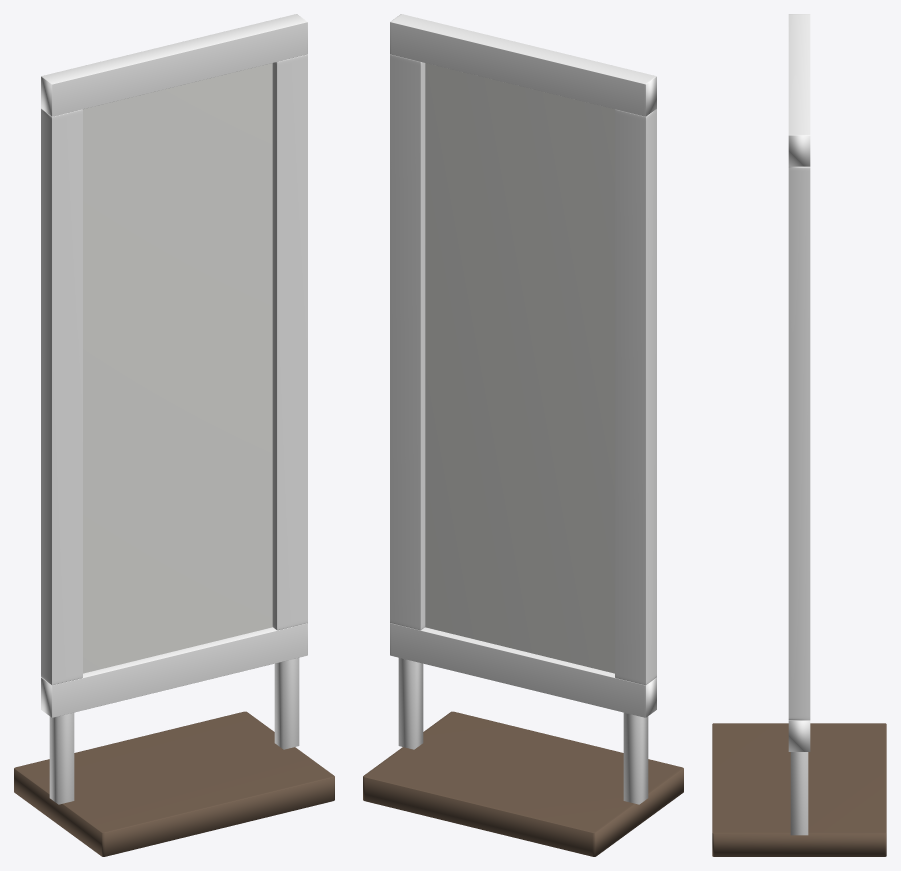
The picture shows the model from 3 angles, left to right: view 1: azimuth 30°, elevation 25°; view 2: azimuth 150°, elevation 25°; view 3: azimuth 270°, elevation 25°; orthographic projection. The views are drawn at different scales.
Visible parts, largest first — view 1: Mirror_Surface, Frame_Complete, OrnateBbase, Stand_Complete; view 2: Mirror_Surface, Frame_Complete, OrnateBbase, Stand_Complete; view 3: OrnateBbase, Frame_Complete, Stand_Complete.
Boxes of the visible parts, x1,y1,x2,y2 form: Mirror_Surface: (83,63,272,673); Frame_Complete: (41,14,307,717); OrnateBbase: (14,711,334,856); Stand_Complete: (49,658,299,804); Mirror_Surface: (425,63,614,673); Frame_Complete: (390,14,656,717); OrnateBbase: (363,711,683,856); Stand_Complete: (398,658,648,804); OrnateBbase: (712,723,886,856); Frame_Complete: (788,14,810,751); Stand_Complete: (790,752,808,835).
Bounding box in the file's own units: 0.66 × 1.84 × 0.4.
